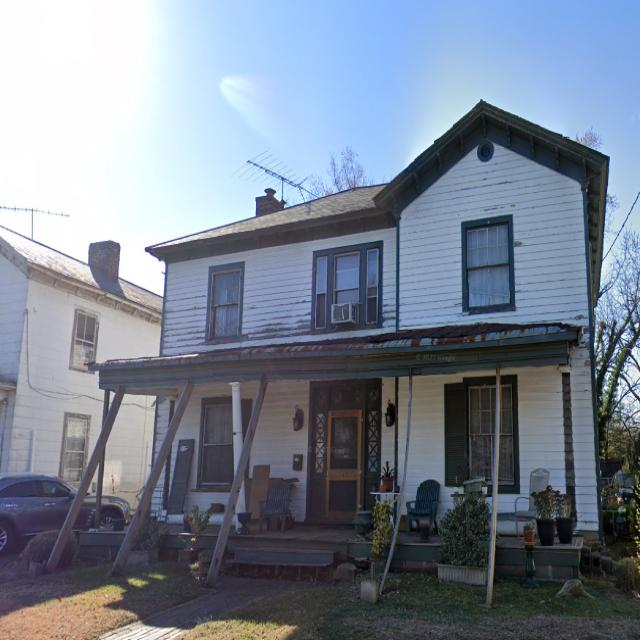House: (42, 100, 613, 604), (0, 220, 165, 517)
